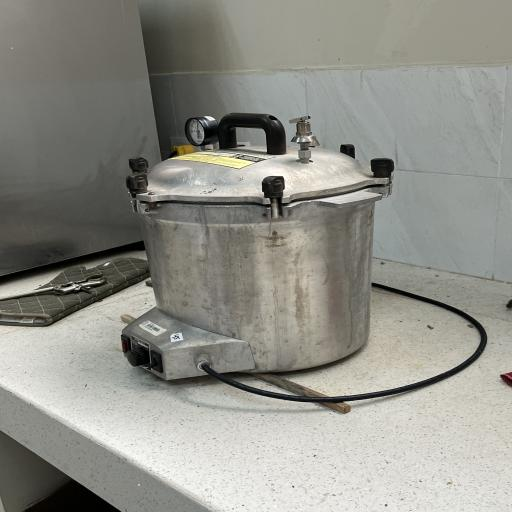Autoclave: (117, 107, 407, 395)
